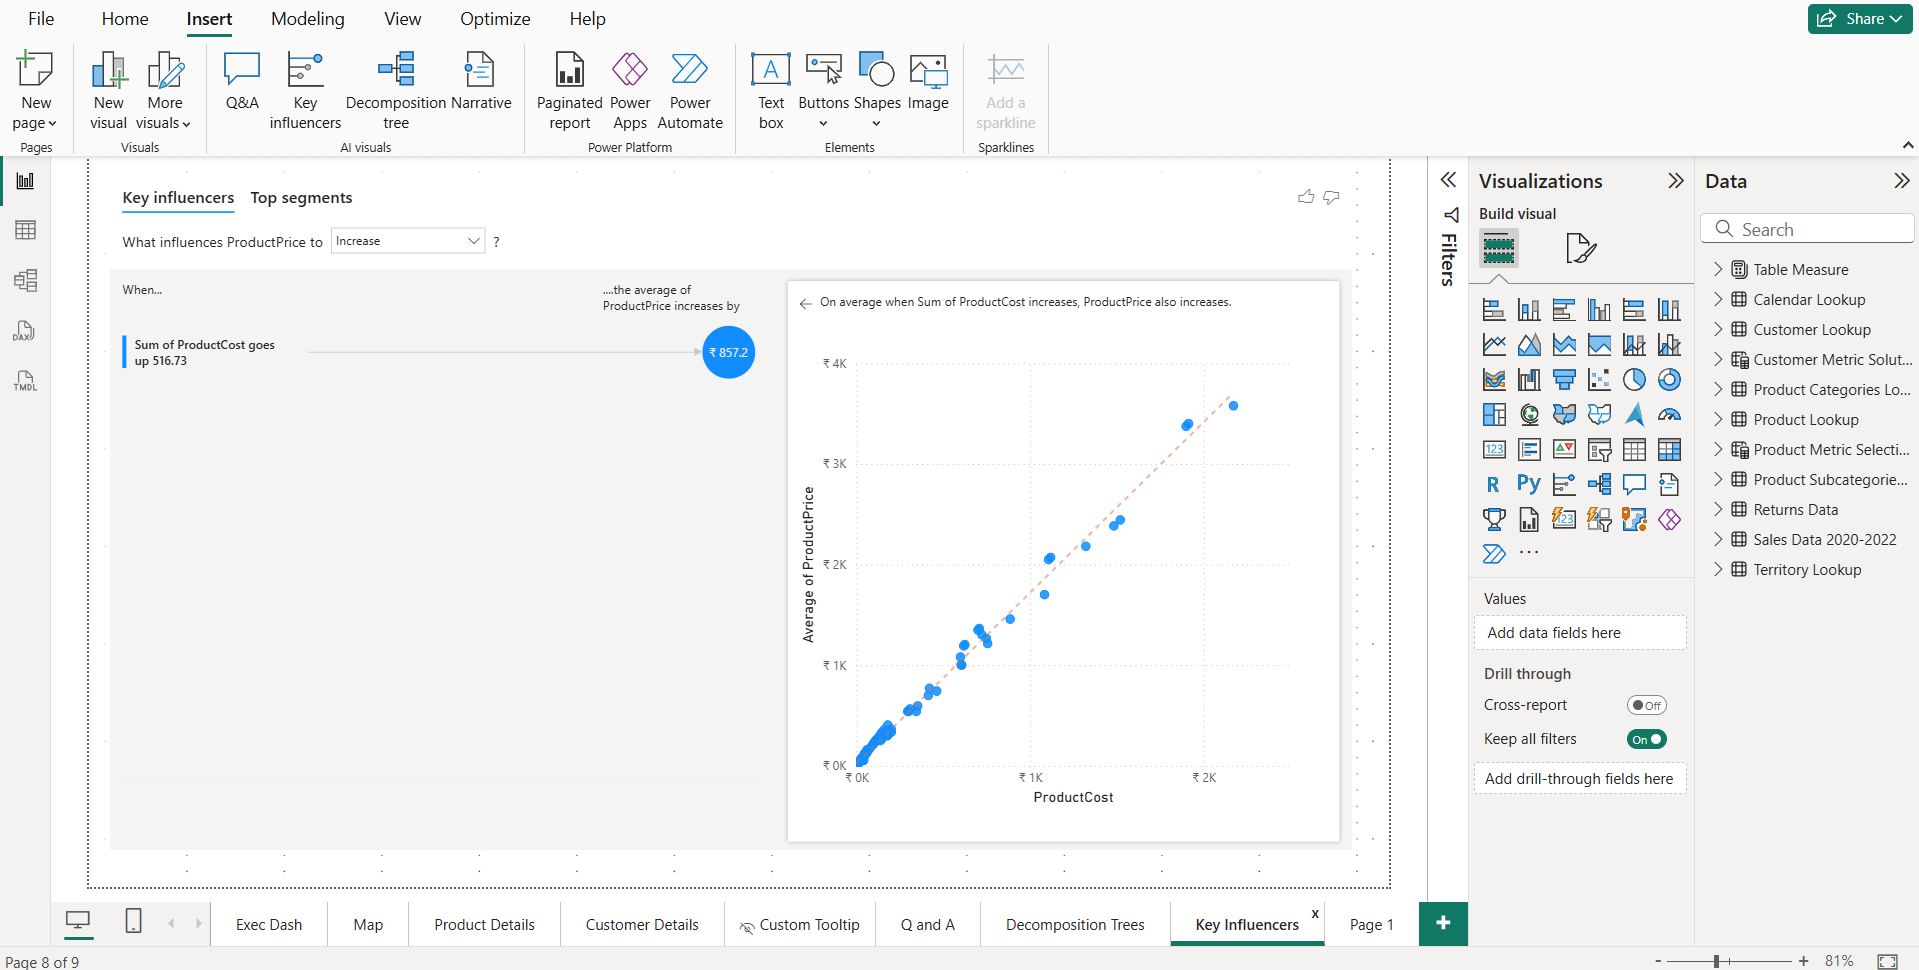

What the dashboard file says about the page in this screenshot:
{"tool":"powerbi","page":{"name":"Key Influencers","canvas":[1280,720],"ordinal":7},"visuals":[{"type":"keyDriversVisual","fields":{"Target":["Product Lookup.ProductPrice"],"ExplainBy":["Sum(Product Lookup.ProductCost)"]},"box":[16,16,1232,672],"z":0}]}

Visuals, with their boxes on the page's 1280x720 design canvas (x1, y1, x2, y2). These are canvas units, not pixel positions in the 1919x970 screenshot, which may show the page scaled, cropped or inside an application window:
keyDriversVisual - Product Lookup.ProductPrice x Sum(Product Lookup.ProductCost): bbox=(16, 16, 1248, 688)
